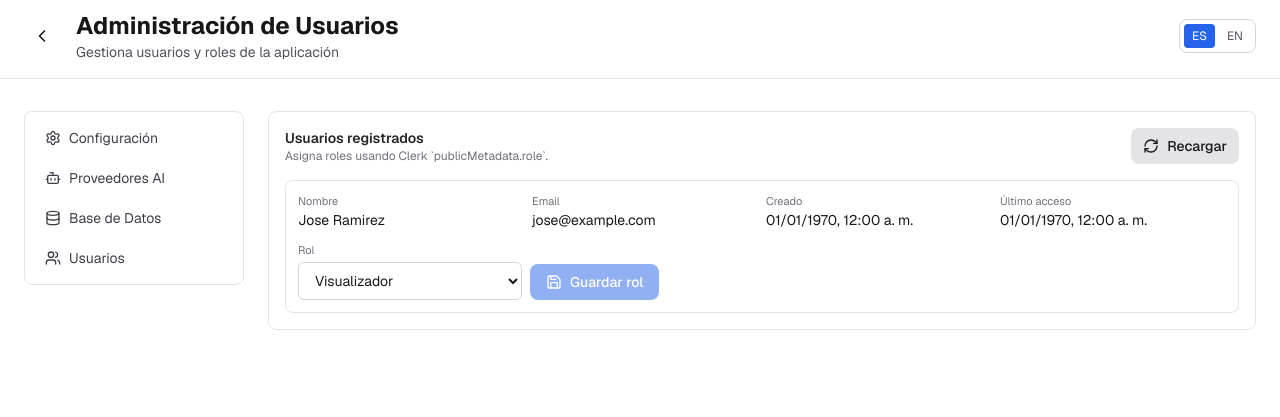
Test: AdminUsersPage › updates role for a user
This screenshot has width=1280, height=417.
Select "Admin" in the dropdown with test id "role-select-user_1" at (410, 281), box [298,262,522,300]
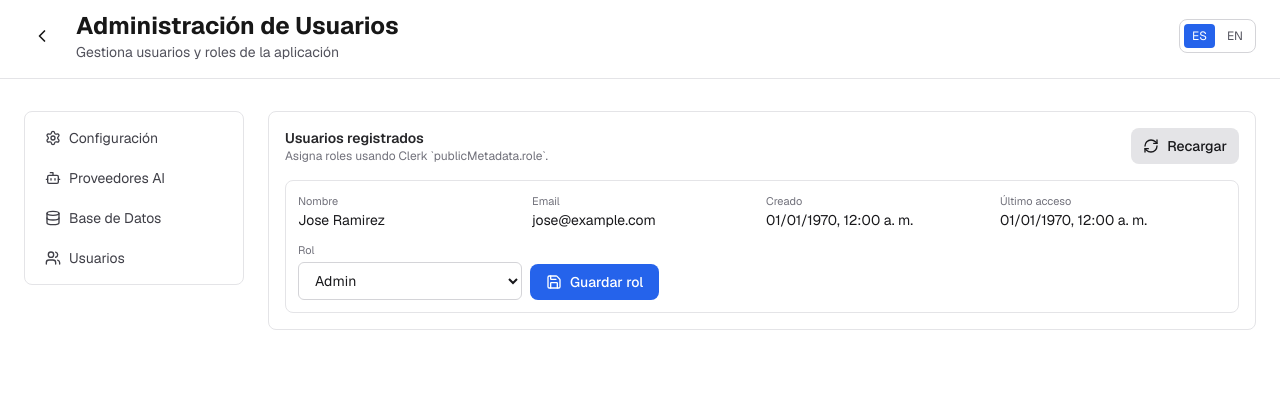
Click the button with test id "save-role-user_1" at (595, 282), box [530,264,659,300]
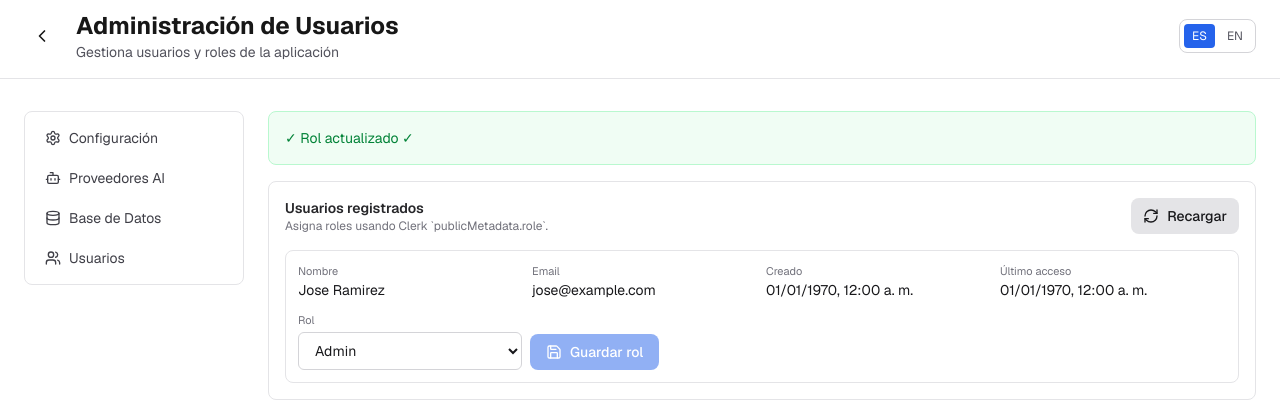
expect the text "✓ Rol actualizado ✓" is shown: met, box [285,129,414,147]
